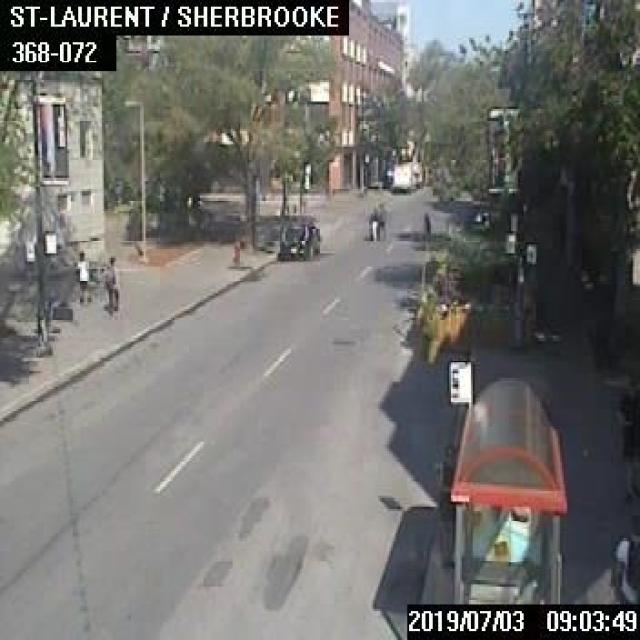pedestrian: (607, 514, 638, 602), (433, 444, 454, 566), (100, 253, 118, 316), (75, 247, 89, 303), (421, 210, 429, 238)
vehicle: (274, 220, 318, 258), (368, 207, 384, 239)
